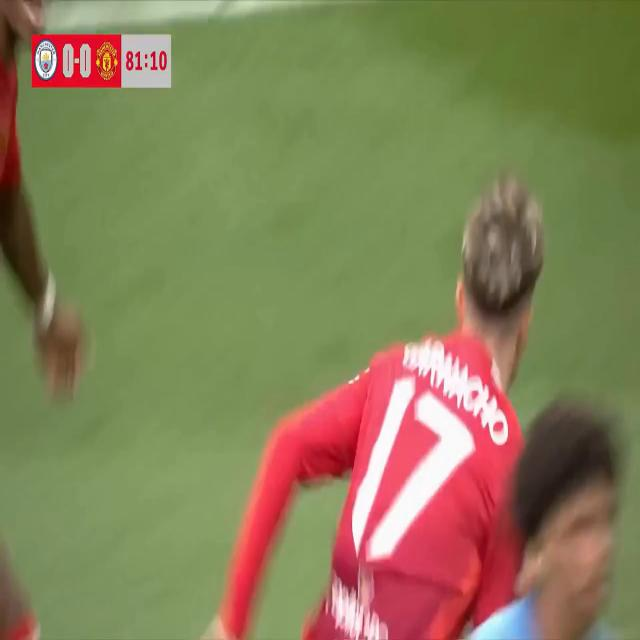players: (196, 145, 550, 640), (2, 0, 97, 640), (456, 394, 637, 640)
